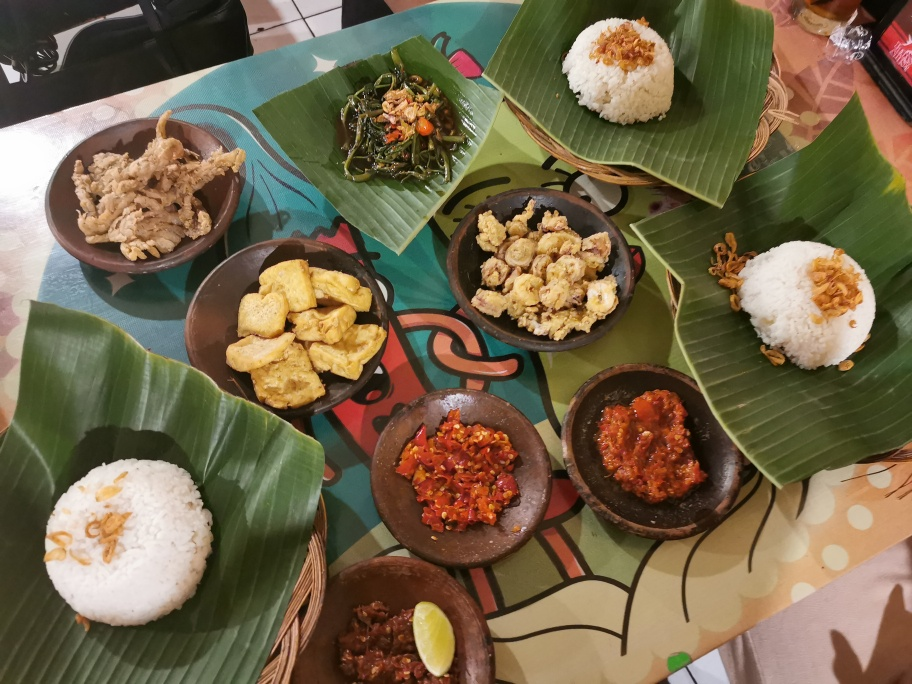nasi putih: (32, 452, 217, 628), (740, 239, 878, 374), (560, 16, 676, 127)
